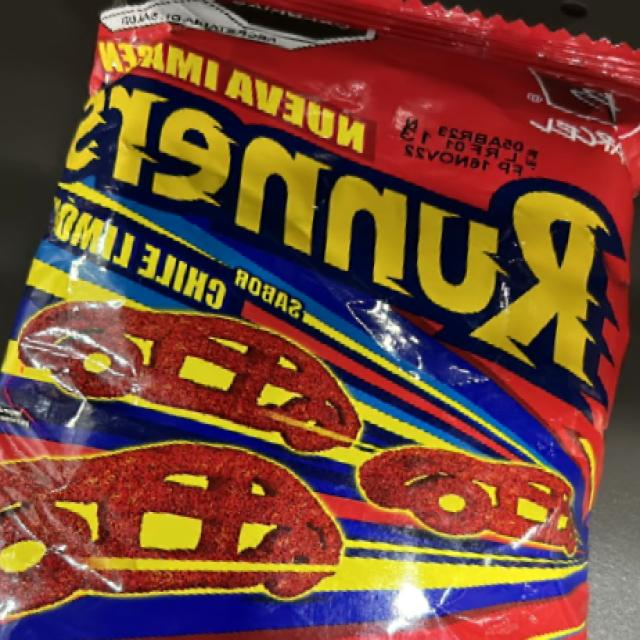runners: (46, 19, 604, 640)
